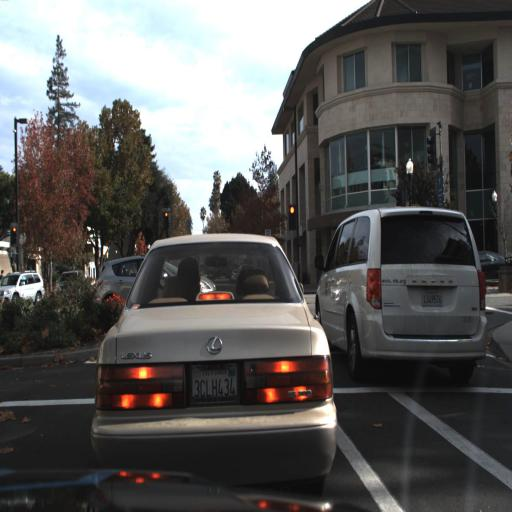car: (93, 228, 332, 474), (314, 202, 487, 378), (0, 271, 46, 305), (0, 268, 44, 303), (476, 246, 508, 289)
trafficLight-Red: (287, 203, 297, 231), (10, 223, 18, 247), (162, 208, 170, 231)
